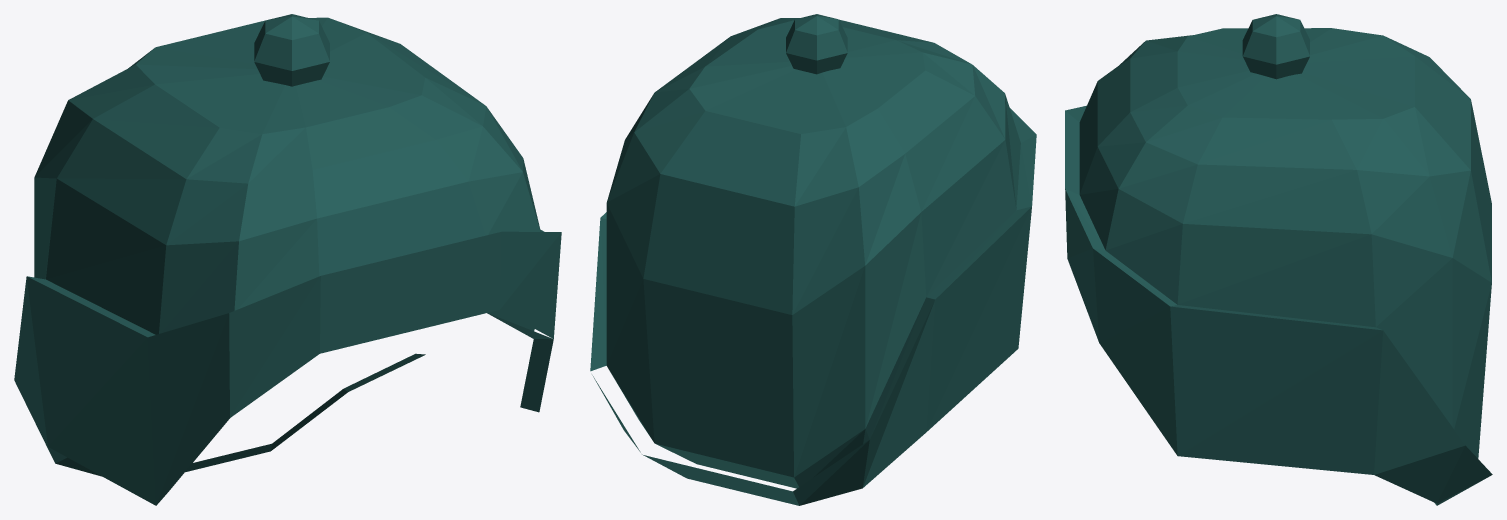
The model's file is headwear-beanie.high.b848fe16.glb.
3 views of the same model, side by side, from view 1: azimuth 30°, elevation 25°; view 2: azimuth 150°, elevation 25°; view 3: azimuth 270°, elevation 25° (orthographic). The views are drawn at different scales.
Parts seen in each view (by area): view 1: headwear-beanie; view 2: headwear-beanie; view 3: headwear-beanie.
Part boxes in pixels (<box>): headwear-beanie: <box>14,14,561,505</box>; headwear-beanie: <box>590,14,1036,505</box>; headwear-beanie: <box>1065,14,1492,505</box>.
Bounding box in the file's own units: 0.2381 × 0.2869 × 0.2418.
